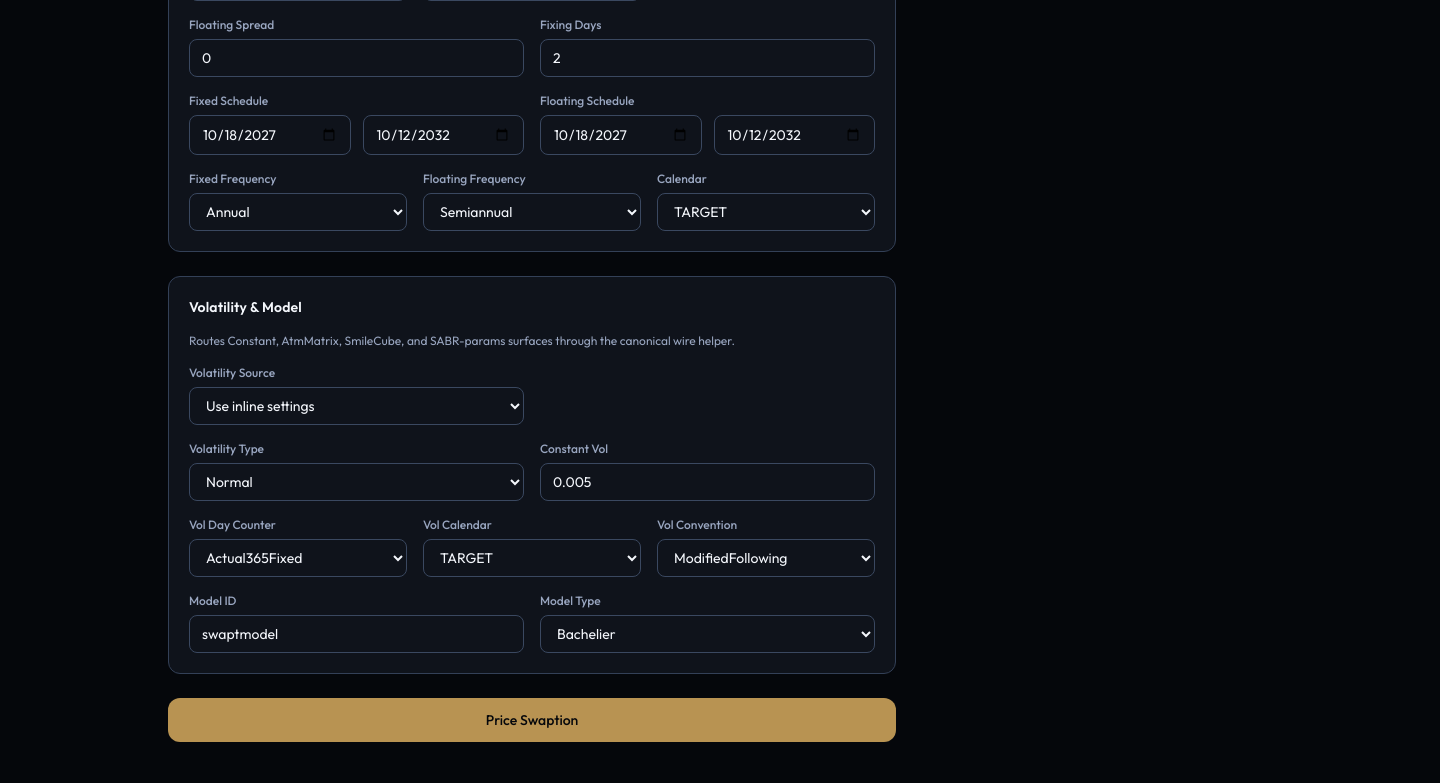
Test: Swaption component — direct backend cutover › C2: swaption_not_found error — error UI rendered; no Pricing Results panel
This screenshot has width=1440, height=783.
(page scrolled)
What coordinates should you click on to do the following:
click the button "Price Swaption"
I would click on:
 (532, 720)
Its box is [168,698,896,742].
(page scrolled)
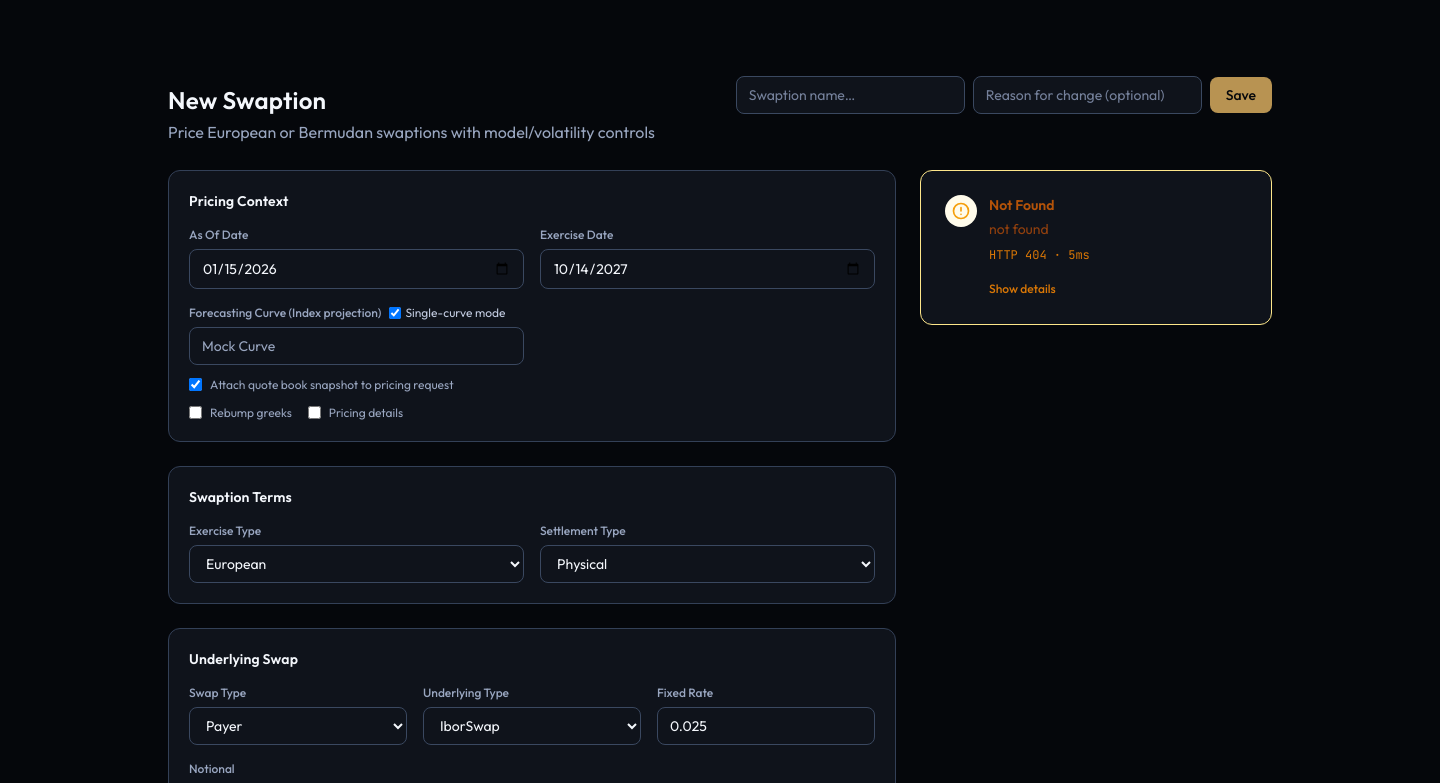
Result: the text "Not Found" is shown at [989,196,1054,214]
